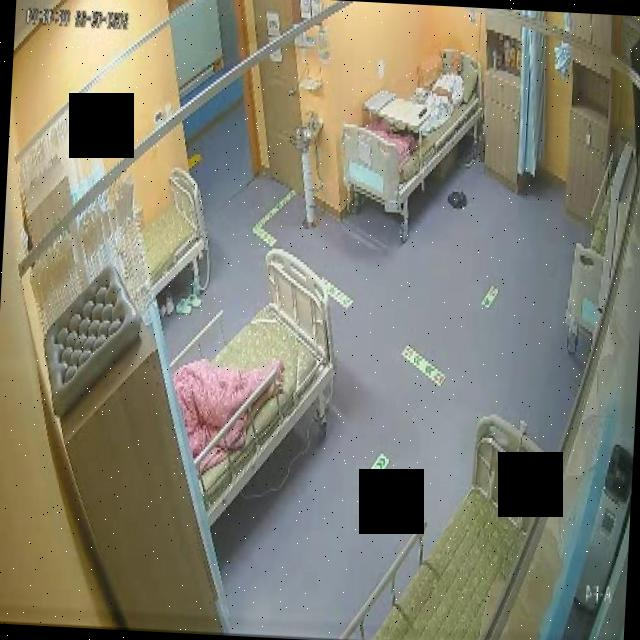bed: (340, 405, 556, 640), (172, 246, 340, 526), (340, 46, 484, 216), (140, 168, 212, 300)
lie: (412, 49, 469, 136)
patient: (412, 49, 468, 135)
